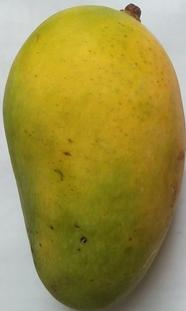PartiallyRipe: (1, 1, 186, 311)
